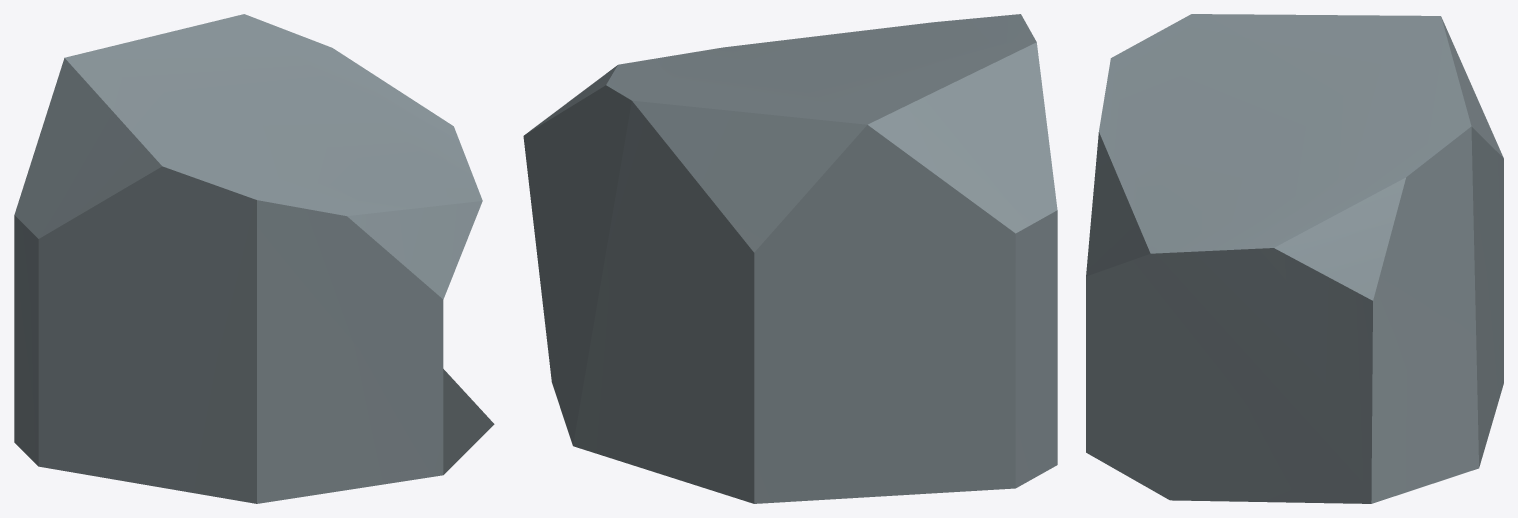
File: rock_2.fbx
3 renders of one model, left to right at view 1: azimuth 30°, elevation 25°; view 2: azimuth 150°, elevation 25°; view 3: azimuth 270°, elevation 25°, orthographic. The views are drawn at different scales.
Visible parts, largest first — view 1: rock_2; view 2: rock_2; view 3: rock_2.
Part boxes in pixels (<box>): rock_2: <box>14,14,494,503</box>; rock_2: <box>523,14,1057,503</box>; rock_2: <box>1086,14,1503,503</box>.
Bounding box in the file's own units: 248 × 183 × 204.
